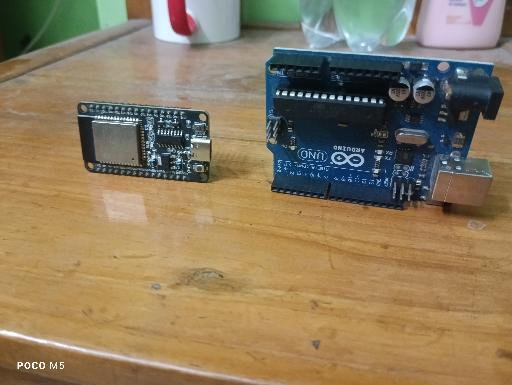Arduino: (264, 46, 504, 212)
Esp32: (75, 99, 213, 184)
